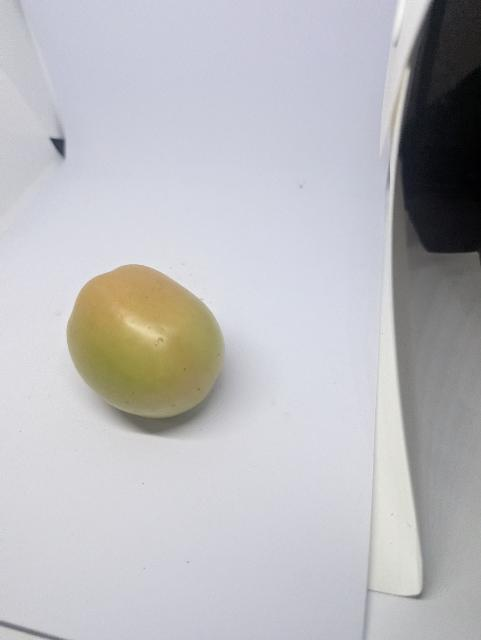breaker: (65, 262, 238, 420)
